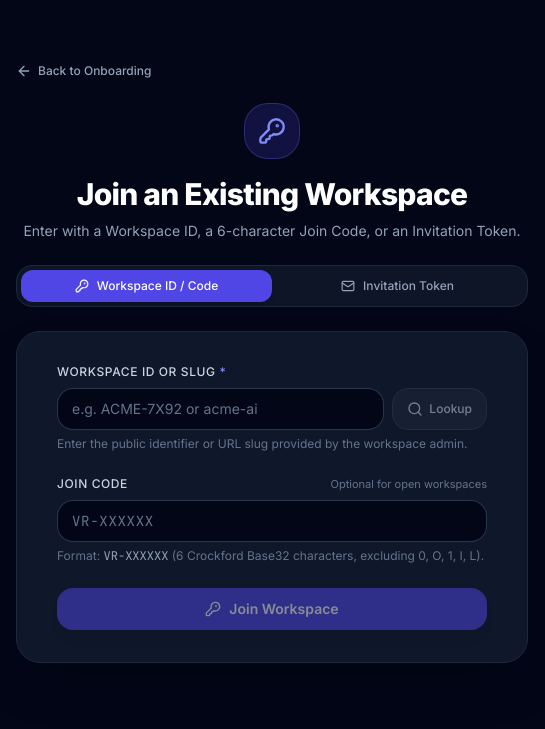
WS-A8: Create & Join Workspace Workflows › Join Workspace Workflow (/workspaces/join) › 5. Lookup previews safe public workspace information and rejects internal Tenant UUID
This screenshot has width=545, height=729.
Note: Test client-side rejection of internal Tenant UUID
Step 1. Type "123e4567-e89b-12d3-a456-426614174000" into the field labelled "Workspace ID or Slug *" → coordinates (221, 409), box [57,388,384,430]
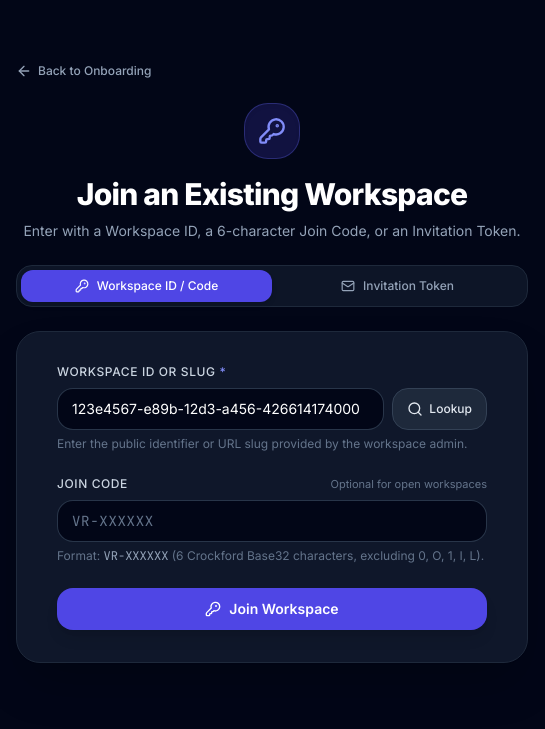
Step 2. Click the button "Lookup" → coordinates (440, 409), box [392,388,487,430]
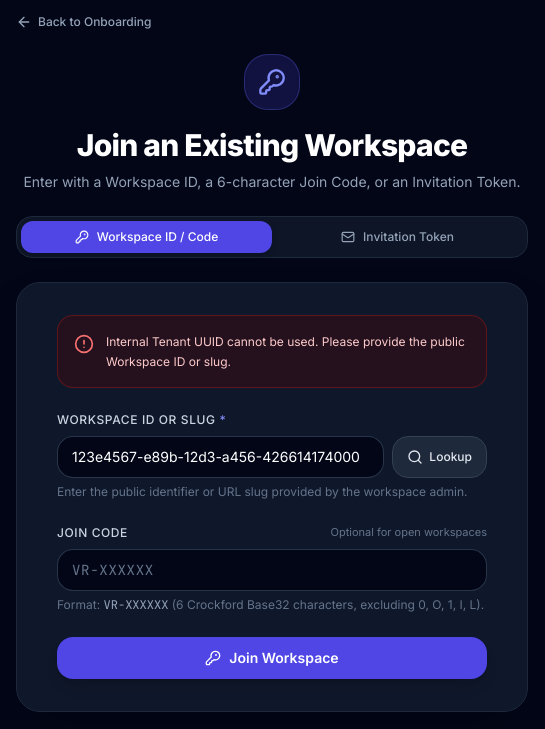
Result: the text "Internal Tenant UUID cannot be used" is shown at [106,334,465,369]
Step 3. Replace the text in the field labelled "Workspace ID or Slug *" with "RESEARCH-LAB" → coordinates (221, 457), box [57,436,384,478]
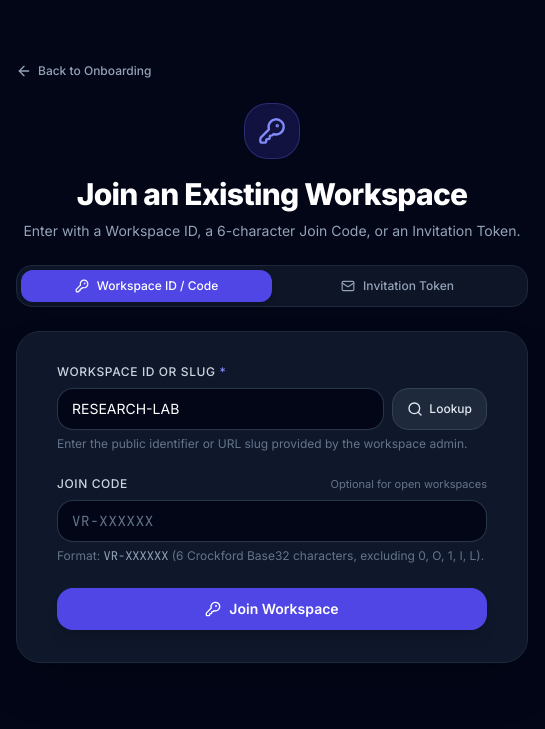
Step 4. Click the button "Lookup" → coordinates (440, 409), box [392,388,487,430]
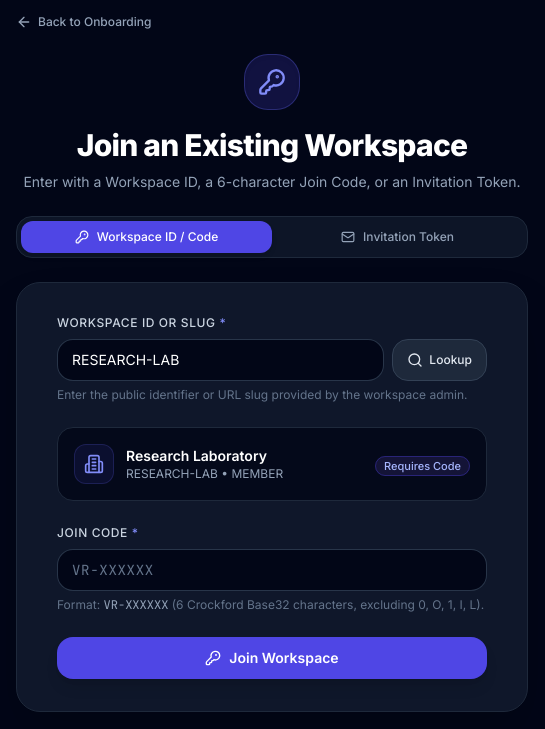
Result: the text "Research Laboratory" is shown at [126,446,283,466]
Result: the text "Requires Code" is shown at [375,456,470,476]
